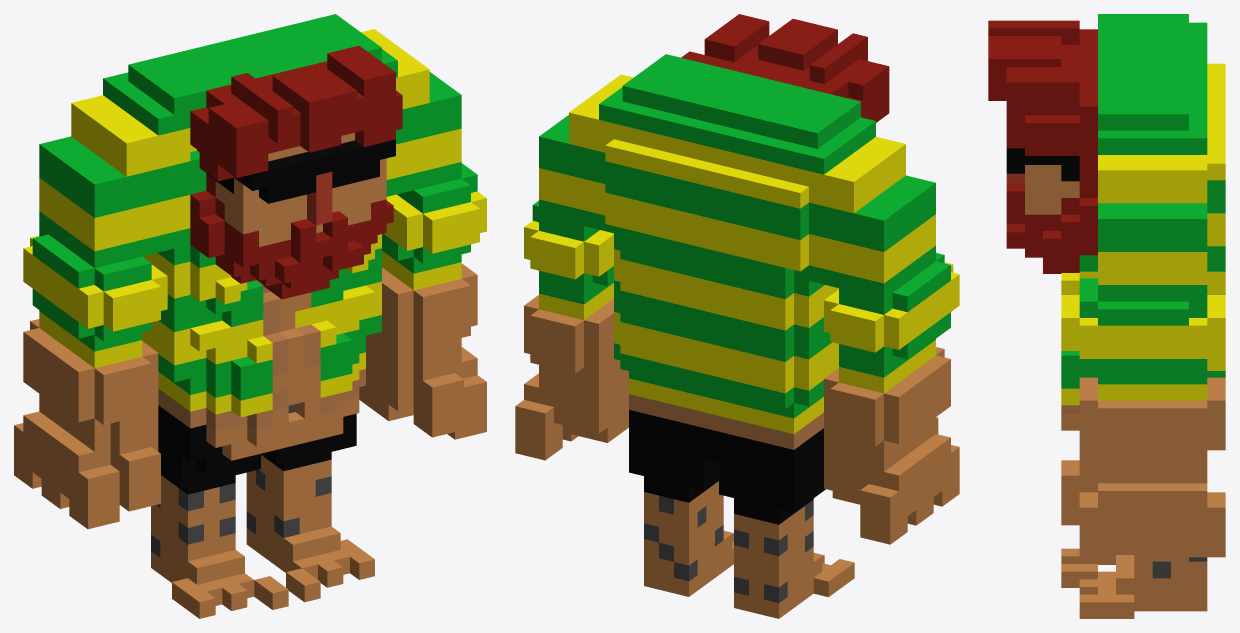
Rendered from GunnerV2-6.obj.
3 views of the same model, side by side, from view 1: azimuth 30°, elevation 25°; view 2: azimuth 150°, elevation 25°; view 3: azimuth 270°, elevation 25° (orthographic). The views are drawn at different scales.
Bounding box in the file's own units: 2.5 × 3.2 × 1.3.
Materials: 1 (1 with a texture image).
